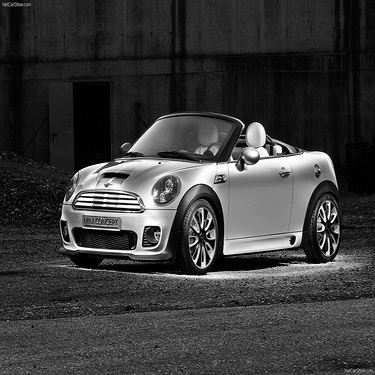car: (37, 101, 348, 276)
